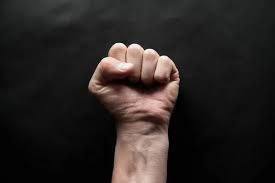closed: (87, 42, 180, 125)
